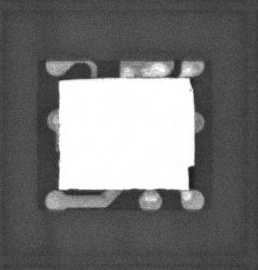DIE_BROKEN: (185, 164, 195, 190), (187, 76, 193, 96)
